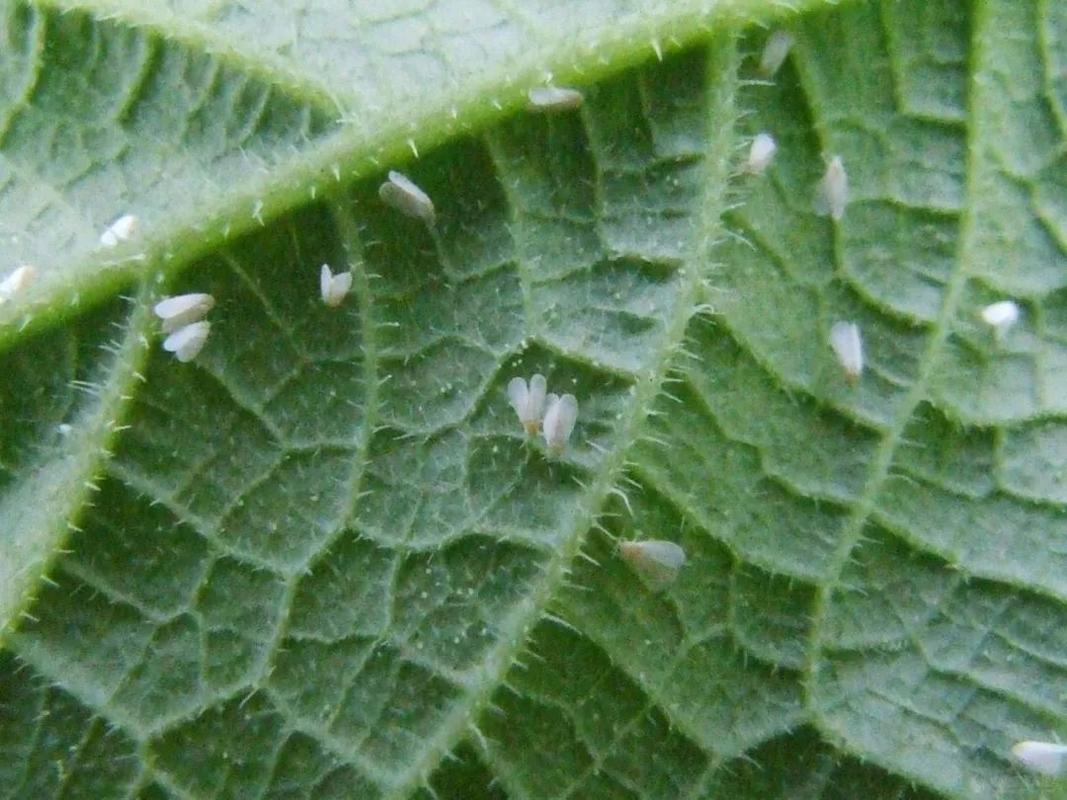Delphacidae: (611, 534, 685, 592), (506, 372, 549, 451), (809, 151, 855, 220), (163, 313, 223, 364), (377, 168, 437, 218), (541, 392, 580, 466), (828, 319, 866, 386), (152, 293, 214, 334), (737, 131, 776, 178), (980, 300, 1019, 342), (317, 264, 353, 309), (526, 83, 583, 107)
